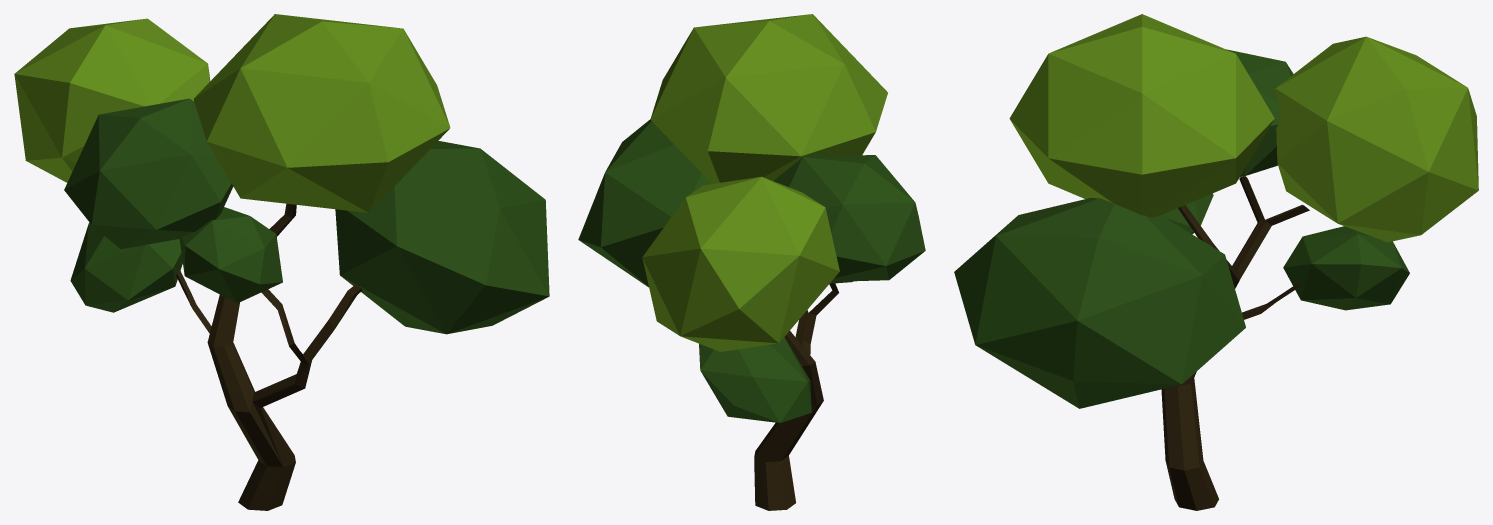
File: tree2.fbx
3 renders of one model, left to right at view 1: azimuth 30°, elevation 25°; view 2: azimuth 150°, elevation 25°; view 3: azimuth 270°, elevation 25°, orthographic. The views are drawn at different scales.
Visible parts, largest first — view 1: GeoSphere006, GeoSphere010, GeoSphere007, GeoSphere008, Cylinder002, GeoSphere009, GeoSphere011; view 2: GeoSphere006, GeoSphere008, GeoSphere007, GeoSphere010, GeoSphere011, Cylinder002; view 3: GeoSphere010, GeoSphere006, GeoSphere008, GeoSphere011, Cylinder002, GeoSphere007, GeoSphere009.
Boxes of the visible parts, x1,y1,x2,y2 form: GeoSphere006: (193,14,450,212); GeoSphere010: (335,141,549,334); GeoSphere007: (64,98,233,249); GeoSphere008: (14,18,210,182); Cylinder002: (176,203,362,510); GeoSphere009: (179,207,282,303); GeoSphere011: (70,222,182,312); GeoSphere006: (650,14,887,183); GeoSphere008: (642,176,839,351); GeoSphere007: (773,155,925,281); GeoSphere010: (578,119,711,287); GeoSphere011: (699,337,811,422); Cylinder002: (754,283,838,510); GeoSphere010: (954,198,1245,408); GeoSphere006: (1009,14,1274,217); GeoSphere008: (1275,36,1478,242); GeoSphere011: (1283,226,1409,310); Cylinder002: (1161,176,1309,510); GeoSphere007: (1226,49,1293,177); GeoSphere009: (1161,193,1213,234).
Size of the model in its own units: 764 by 918 by 889.
